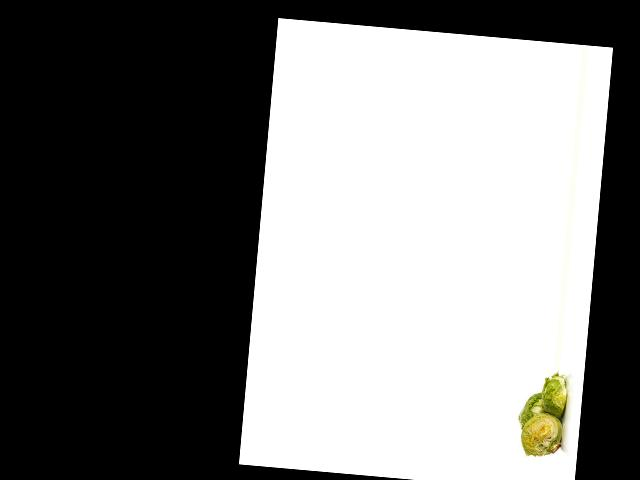lettuce: (516, 387, 550, 435)
